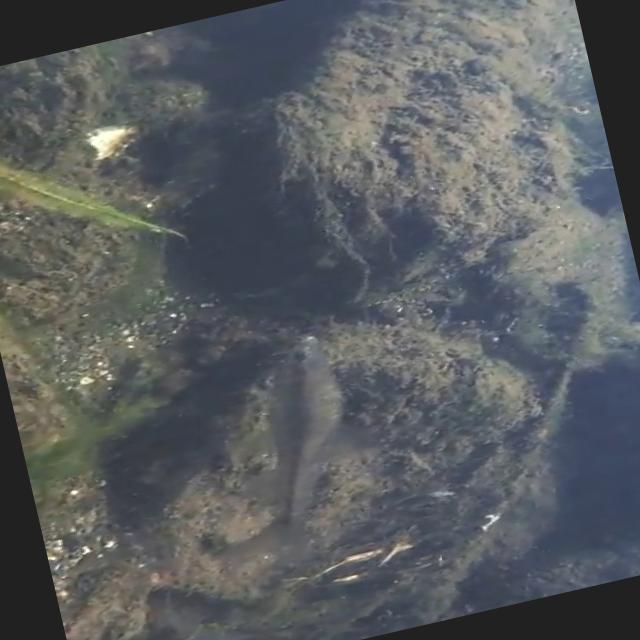Cakil Baligi: (182, 318, 414, 572)
